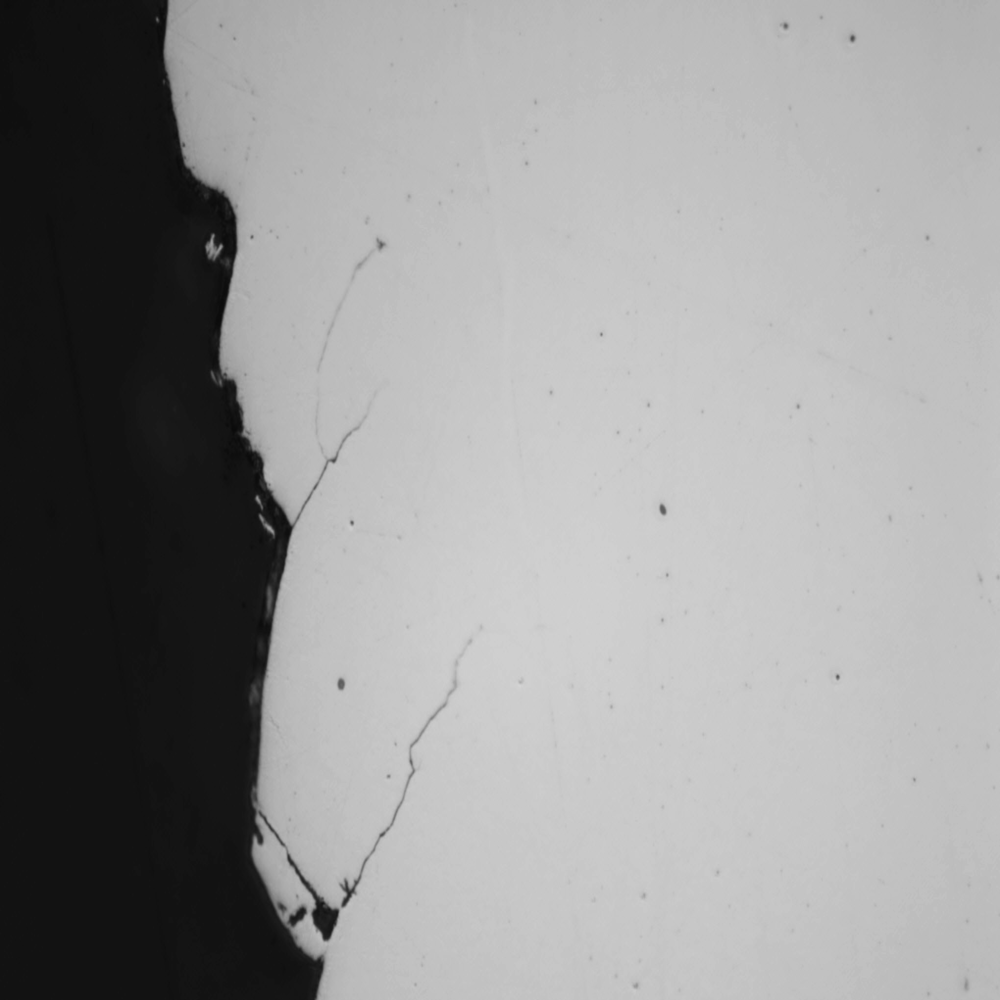crack: (270, 569, 530, 980), (242, 185, 400, 569)
